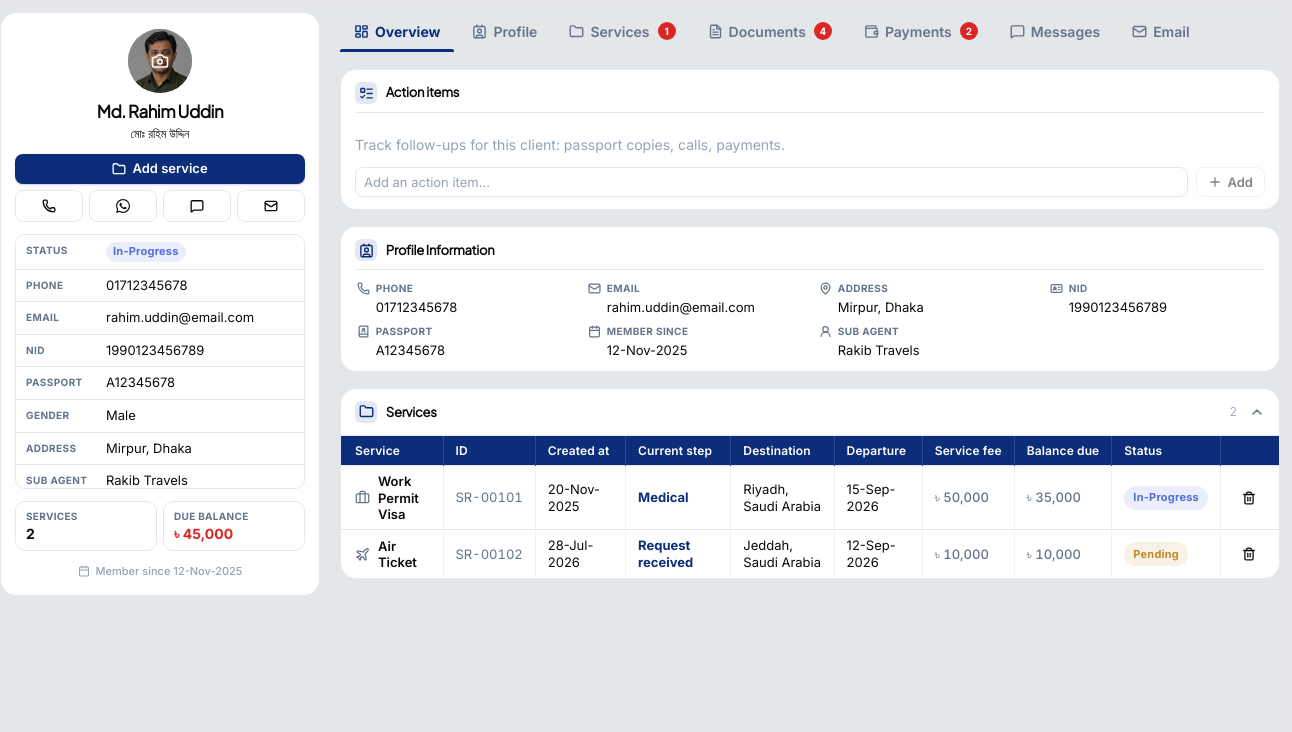
it: client overview › opens services from the profile snapshot
Click the button "Services 2" below "Male" at (86, 526), box [15, 501, 157, 550]
(page scrolled)
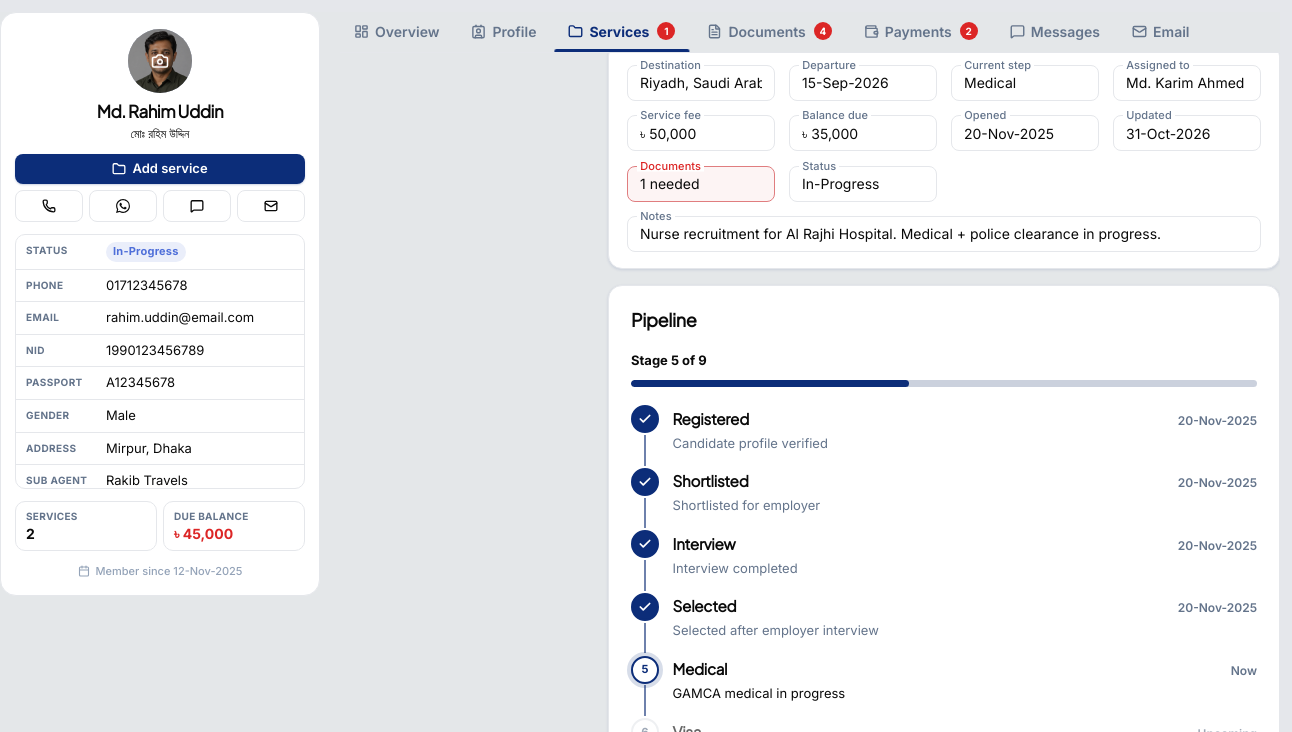
Expected: the element named "Md. Rahim Uddin services" is shown
